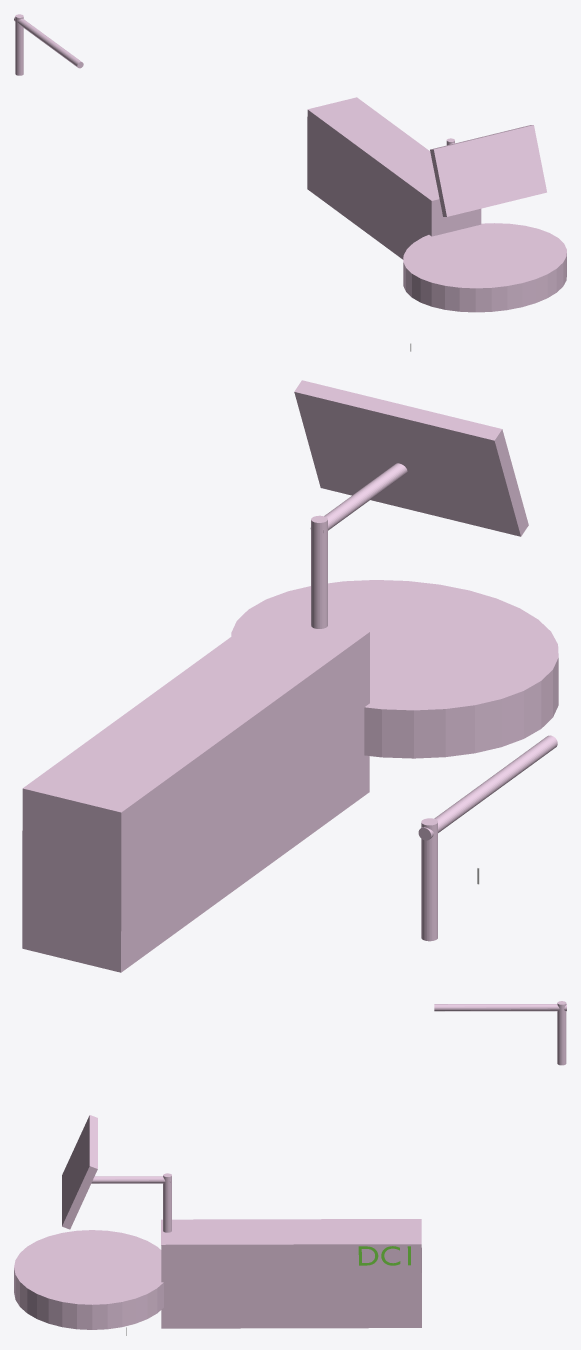
The model's file is 12_jan_2024_color.glb.
3 renders of one model, top to bottom at view 1: azimuth 30°, elevation 25°; view 2: azimuth 150°, elevation 25°; view 3: azimuth 270°, elevation 25°, orthographic. The views are drawn at different scales.
Visible parts, largest first — view 1: Cube.004, Cube.001, Cube.005, Cylinder.001, Cylinder; view 2: Cube.004, Cube.001, Cube.005, Cylinder.001, Cylinder, Cylinder.003, Cylinder.002; view 3: Cube.004, Cube.001, Cube.005, Cylinder.001, Cylinder, Cylinder.002, Cylinder.003.
Part boxes in pixels (x1,y1,x2,y2): Cube.004: (307,97,481,259); Cube.001: (403,223,566,312); Cube.005: (430,125,546,216); Cylinder.001: (14,17,83,68); Cylinder: (15,14,23,75); Cube.004: (22,607,369,972); Cube.001: (231,580,558,758); Cube.005: (294,380,528,536); Cylinder.001: (418,735,557,840); Cylinder: (421,818,437,941); Cylinder.003: (311,515,327,628); Cylinder.002: (310,463,407,532); Cube.004: (161,1219,421,1328); Cube.001: (14,1230,163,1329); Cube.005: (62,1115,97,1229); Cylinder.001: (434,1004,566,1011); Cylinder: (557,1001,566,1065); Cylinder.002: (91,1176,170,1183); Cylinder.003: (163,1173,171,1232).
Bounding box in the file's own units: 12.89 × 8.82 × 18.5.
